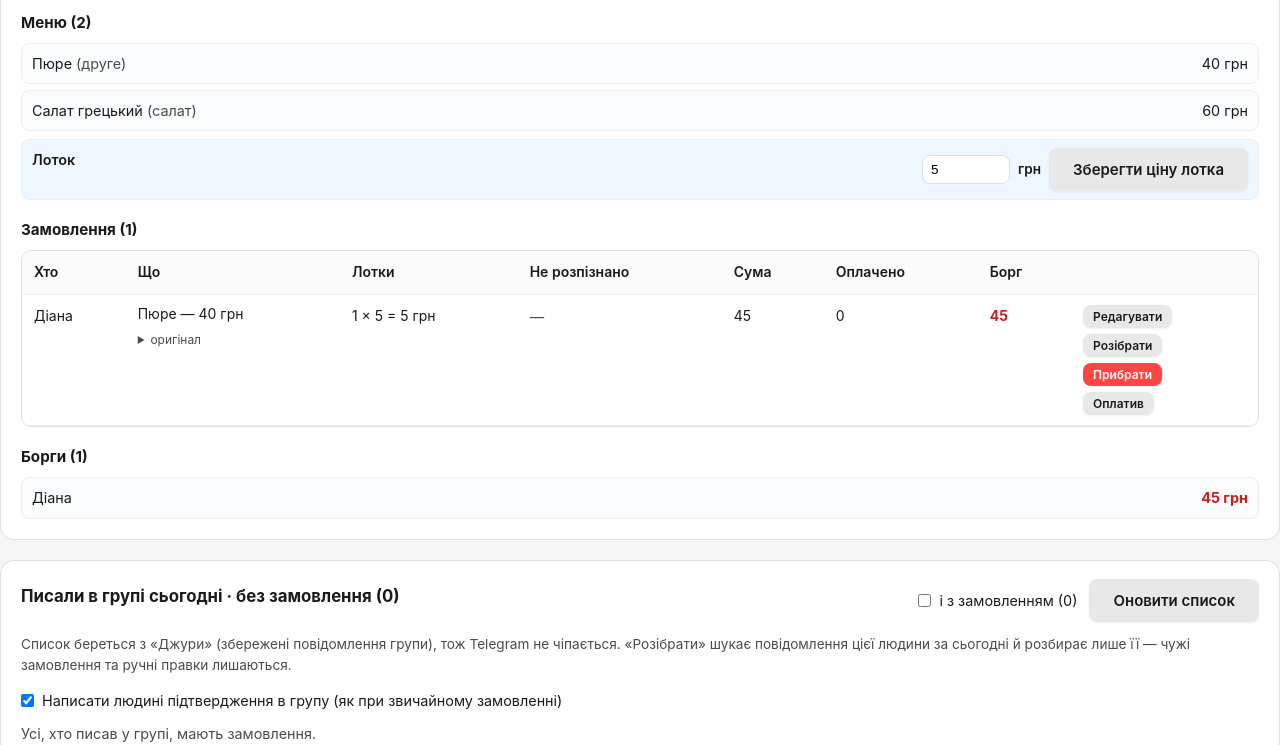
it: LunchTab · розбір окремої людини › кнопка «Розібрати» біля замовлення шле participantId
(page scrolled)
Click the button "Розібрати".
click(1123, 345)  # box [1083,334,1162,357]
(page scrolled)
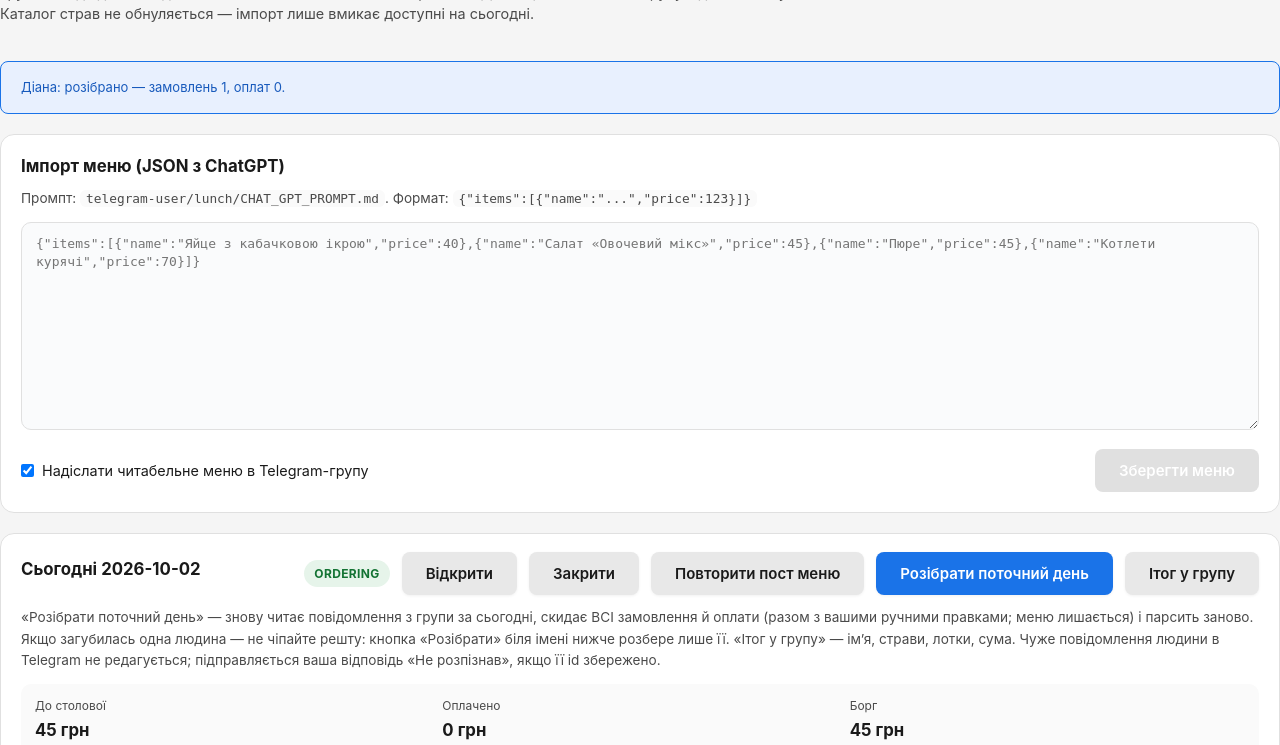
Expected: the text "Діана: розібрано — замовлень 1, оплат 0." is shown, [0,61,1279,114]
